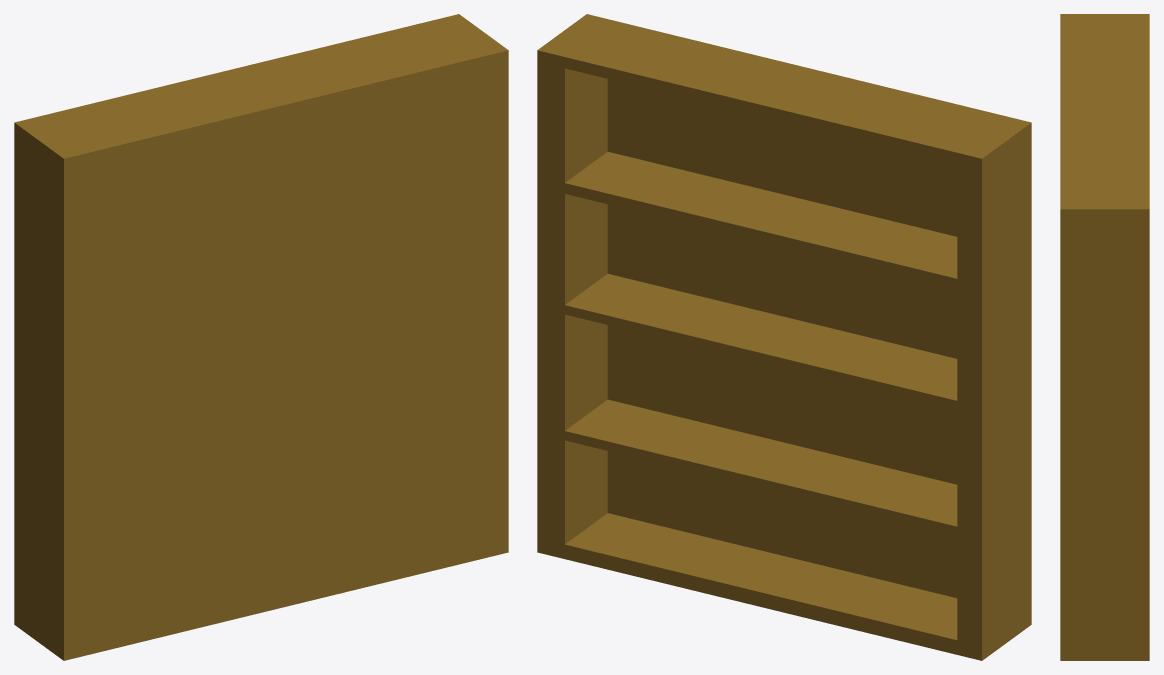
Rendered from Bookshelf_Material.fbx.
The picture shows the model from 3 angles, left to right: view 1: azimuth 30°, elevation 25°; view 2: azimuth 150°, elevation 25°; view 3: azimuth 270°, elevation 25°; orthographic projection. The views are drawn at different scales.
Visible parts, largest first — view 1: Bookshelf; view 2: Bookshelf; view 3: Bookshelf.
Boxes of the visible parts, left/top/right/bottom form: Bookshelf: left=14, top=14, right=508, bottom=660; Bookshelf: left=537, top=14, right=1031, bottom=660; Bookshelf: left=1060, top=14, right=1149, bottom=660.
Bounding box in the file's own units: 1.11 × 1.2 × 0.2144.
